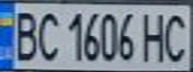0: (100, 9, 121, 62)
1: (63, 8, 84, 62)
6: (115, 9, 142, 63), (81, 8, 103, 62)
B: (6, 7, 42, 62)
C: (160, 9, 193, 63), (33, 8, 63, 62)
H: (139, 9, 172, 63)
